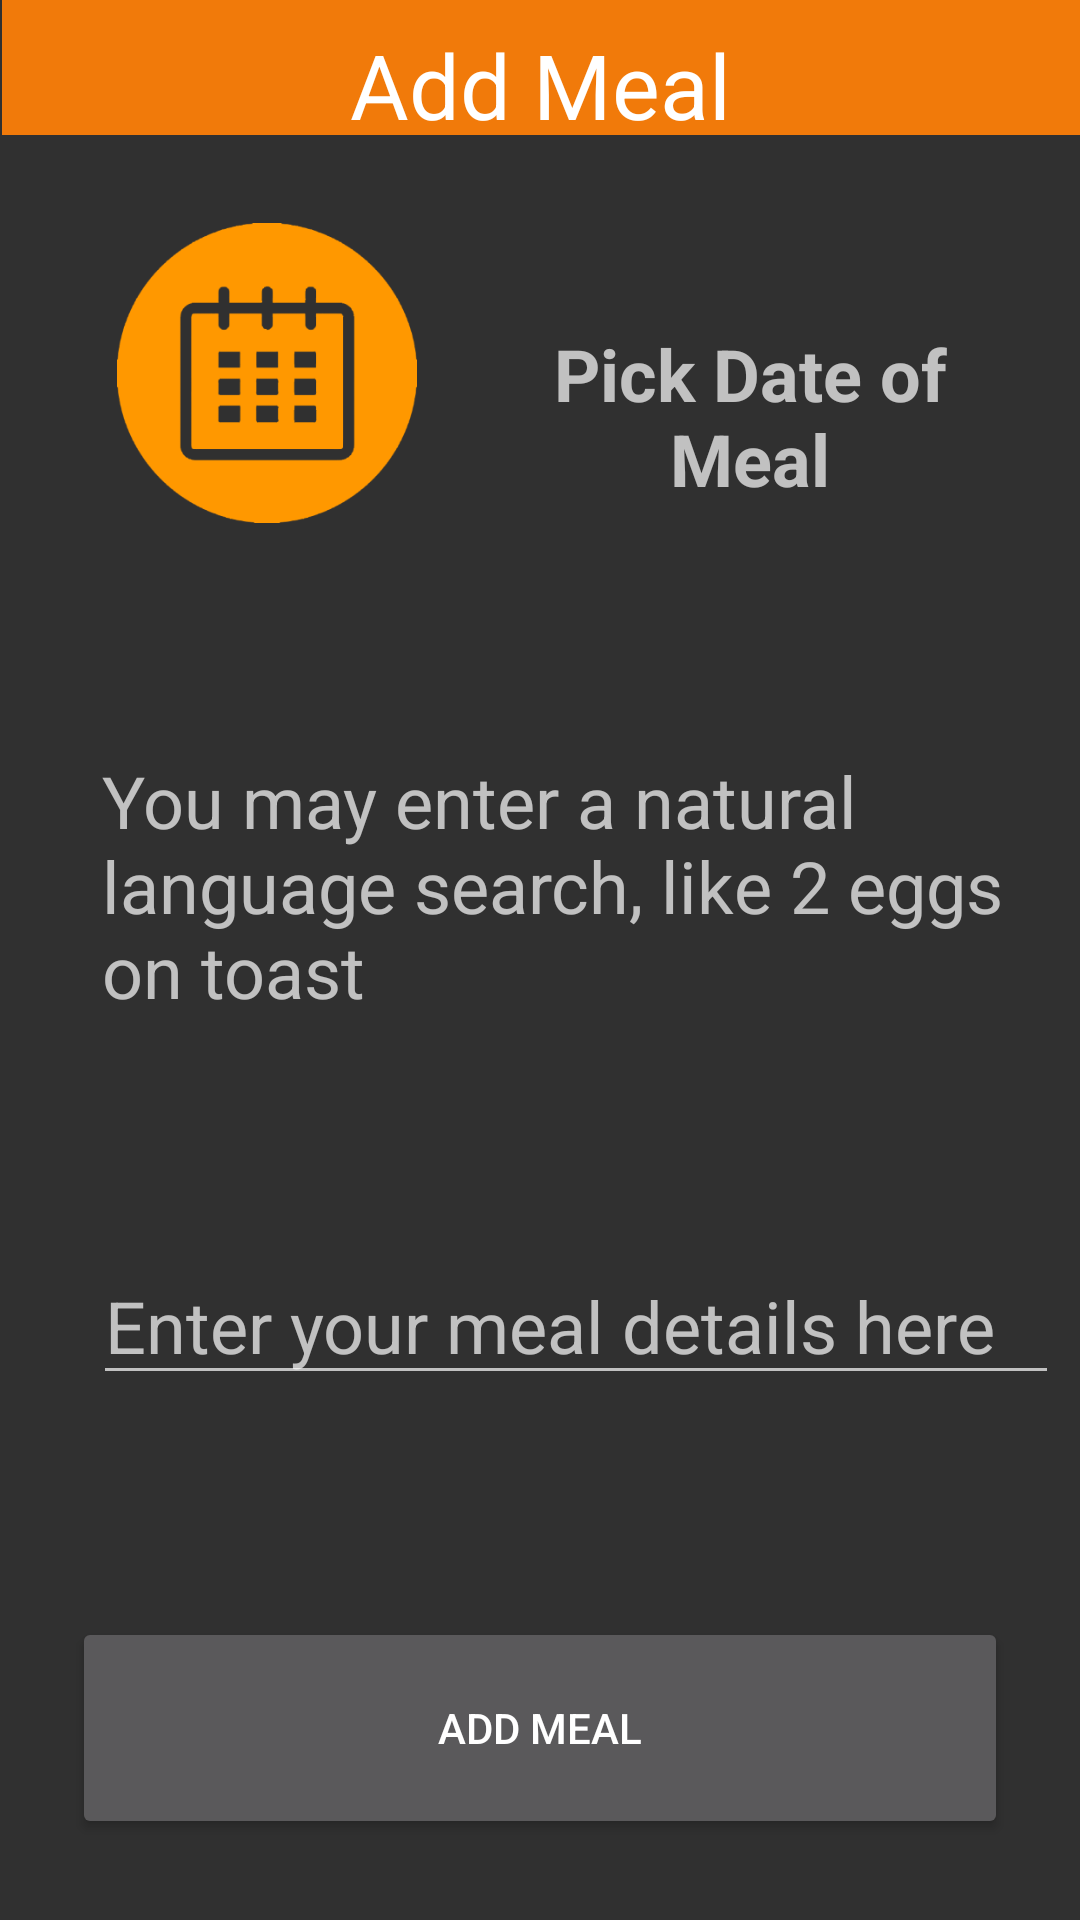

Where icons sit on this 1080*1920 app screen, as bbox(x1, y1, x2, y2):
Date Picker Image: bbox(117, 223, 417, 523)
